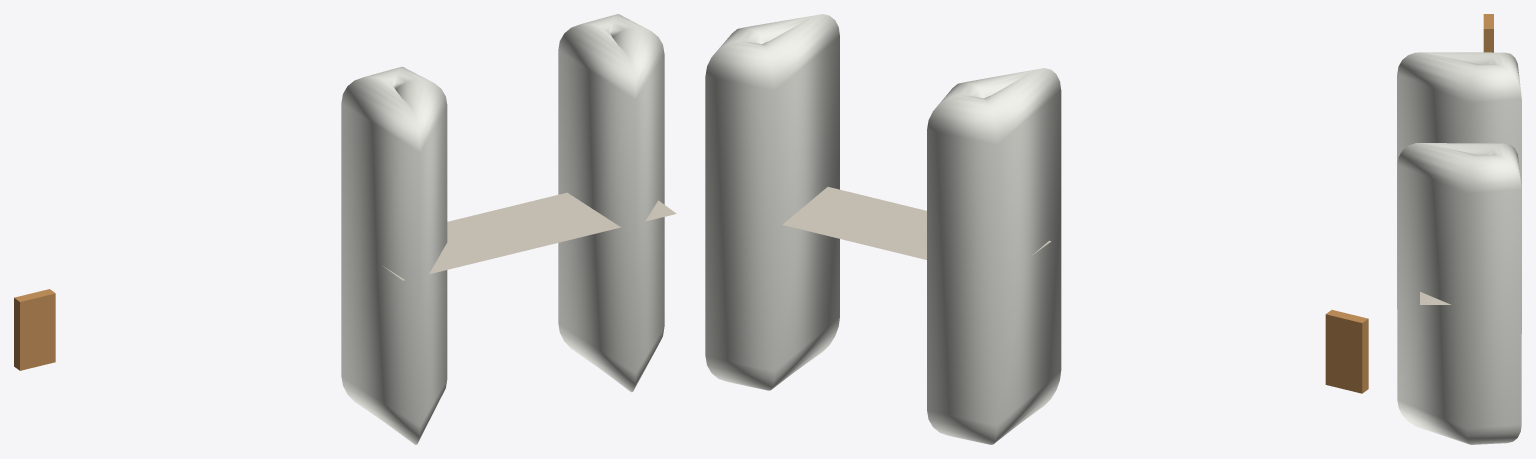
3 renders of one model, left to right at view 1: azimuth 30°, elevation 25°; view 2: azimuth 150°, elevation 25°; view 3: azimuth 270°, elevation 25°, orthographic. The views are drawn at different scales.
Parts seen in each view (by area): view 1: wall_1, wall_0, Floor, window_0; view 2: wall_1, wall_0, Floor, window_0; view 3: wall_0, wall_1, window_0, Floor.
Part boxes in pixels (x1=…): wall_1: x1=341, y1=66, x2=447, y2=444; wall_0: x1=558, y1=14, x2=664, y2=392; Floor: x1=383, y1=192, x2=676, y2=280; window_0: x1=14, y1=289, x2=55, y2=370; wall_1: x1=927, y1=68, x2=1061, y2=444; wall_0: x1=705, y1=14, x2=839, y2=390; Floor: x1=782, y1=187, x2=1050, y2=259; window_0: x1=1325, y1=310, x2=1368, y2=393; wall_0: x1=1397, y1=143, x2=1521, y2=444; wall_1: x1=1397, y1=52, x2=1521, y2=333; window_0: x1=1483, y1=14, x2=1493, y2=52; Floor: x1=1420, y1=292, x2=1450, y2=304.
Size of the model in its own units: 14.58 by 7.29 by 2.88.
